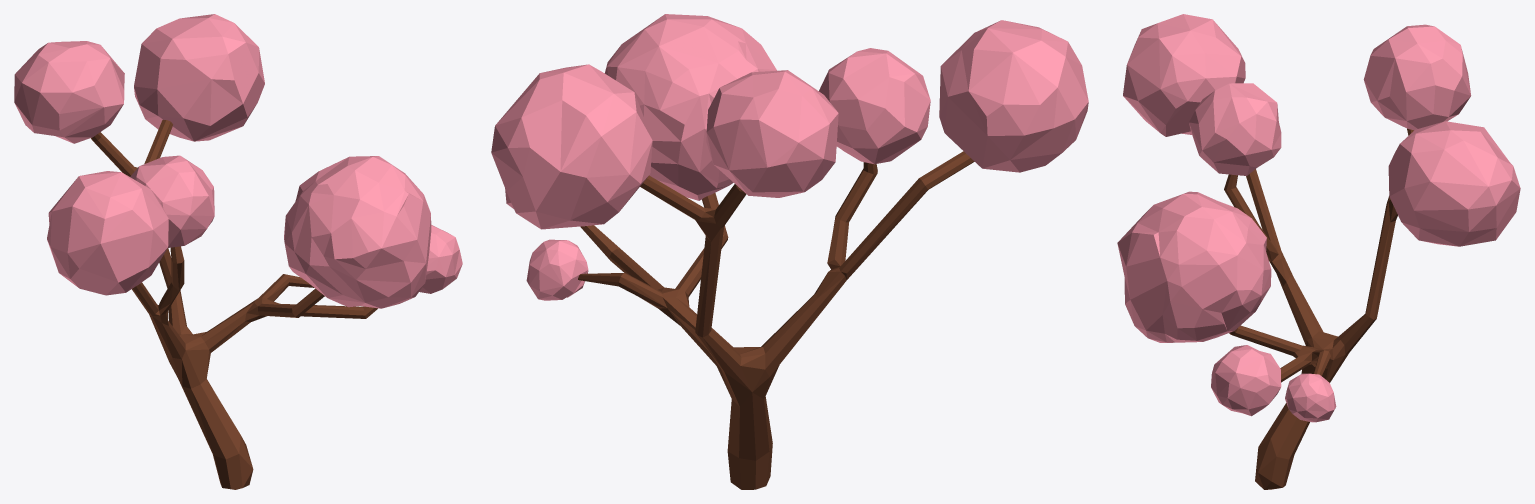
Rendered from Blossom Tree Medium.fbx.
3 views of the same model, side by side, from view 1: azimuth 30°, elevation 25°; view 2: azimuth 150°, elevation 25°; view 3: azimuth 270°, elevation 25° (orthographic). The views are drawn at different scales.
Parts seen in each view (by area): view 1: DualMesh.004, Cube, DualMesh.009, DualMesh.019, DualMesh.013, DualMesh.016, DualMesh.006; view 2: Cube, DualMesh.009, DualMesh.019, DualMesh.004, DualMesh.013, DualMesh.016, DualMesh.020; view 3: DualMesh.004, DualMesh.009, Cube, DualMesh.019, DualMesh.013, DualMesh.016, DualMesh.006, DualMesh.020.
Part boxes in pixels (x1,y1,x2,y2): DualMesh.004: [284, 156, 431, 308]; Cube: [91, 120, 377, 489]; DualMesh.009: [134, 14, 264, 141]; DualMesh.019: [47, 171, 168, 295]; DualMesh.013: [14, 41, 124, 143]; DualMesh.016: [130, 155, 214, 247]; DualMesh.006: [419, 225, 462, 293]; Cube: [578, 151, 974, 489]; DualMesh.009: [491, 64, 652, 229]; DualMesh.019: [939, 20, 1088, 172]; DualMesh.004: [604, 14, 776, 200]; DualMesh.013: [706, 70, 838, 197]; DualMesh.016: [819, 48, 930, 164]; DualMesh.020: [526, 239, 588, 300]; DualMesh.004: [1117, 191, 1271, 342]; DualMesh.009: [1388, 121, 1520, 246]; Cube: [1224, 128, 1413, 489]; DualMesh.019: [1123, 14, 1245, 136]; DualMesh.013: [1363, 24, 1471, 130]; DualMesh.016: [1189, 83, 1281, 175]; DualMesh.006: [1211, 345, 1281, 416]; DualMesh.020: [1285, 373, 1336, 422].
Bounding box in the file's own units: 474 × 433 × 382.
